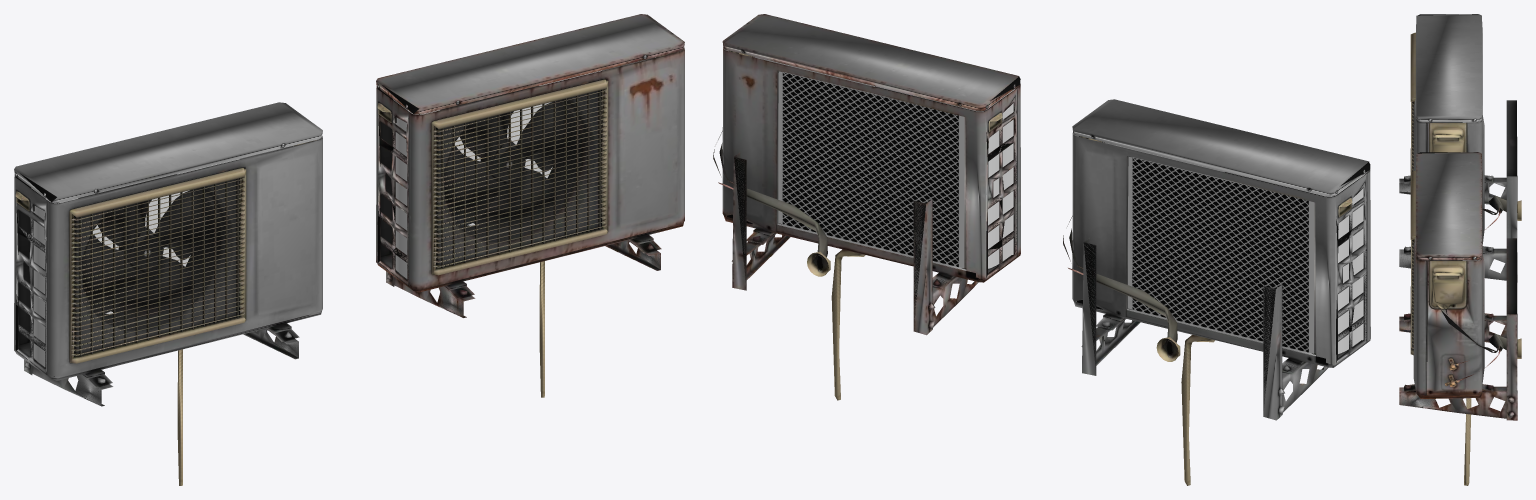
Rendered from prop_aircon_unit_aaa-4848956d6d1c.glb.
3 renders of one model, left to right at view 1: azimuth 30°, elevation 25°; view 2: azimuth 150°, elevation 25°; view 3: azimuth 270°, elevation 25°, orthographic. The views are drawn at different scales.
Visible parts, largest first — view 1: exterior_aircon_unit_rusted, exterior_aircon_unit; view 2: exterior_aircon_unit, exterior_aircon_unit_rusted; view 3: exterior_aircon_unit_rusted, exterior_aircon_unit.
Boxes of the visible parts, x1,y1,x2,y2 form: exterior_aircon_unit_rusted: [376, 14, 684, 397]; exterior_aircon_unit: [14, 102, 322, 485]; exterior_aircon_unit: [1063, 99, 1370, 485]; exterior_aircon_unit_rusted: [713, 14, 1020, 400]; exterior_aircon_unit_rusted: [1399, 152, 1521, 485]; exterior_aircon_unit: [1399, 14, 1521, 282].
Size of the model in its own units: 1.39 by 0.7161 by 0.2903.
4 materials, 4 textured.
